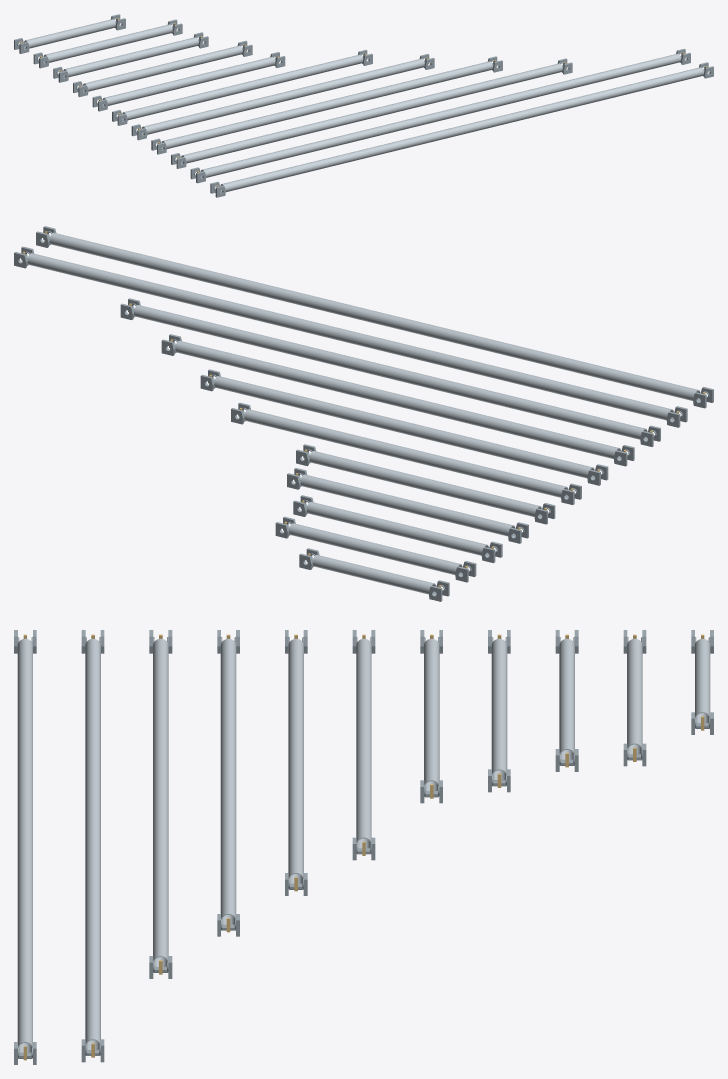
File: Wellmade-Ringlock-All-Ledgers.glb
3 renders of one model, top to bottom at view 1: azimuth 30°, elevation 25°; view 2: azimuth 150°, elevation 25°; view 3: azimuth 270°, elevation 25°, orthographic. The views are drawn at different scales.
Visible parts, largest first — view 1: Ledger tube Ø48.3 x 3.010, Ledger tube Ø48.3 x 3.009, Ledger tube Ø48.3 x 3.008, Ledger tube Ø48.3 x 3.007, Ledger tube Ø48.3 x 3.006, Ledger tube Ø48.3 x 3.005, Ledger tube Ø48.3 x 3.004, Ledger tube Ø48.3 x 3.003, Ledger tube Ø48.3 x 3.002, Ledger tube Ø48.3 x 3.001, Ledger tube Ø48.3 x 3.0; view 2: Ledger tube Ø48.3 x 3.010, Ledger tube Ø48.3 x 3.009, Ledger tube Ø48.3 x 3.008, Ledger tube Ø48.3 x 3.007, Ledger tube Ø48.3 x 3.006, Ledger tube Ø48.3 x 3.005, Ledger tube Ø48.3 x 3.004, Ledger tube Ø48.3 x 3.003, Ledger tube Ø48.3 x 3.002, Ledger tube Ø48.3 x 3.001, Ledger tube Ø48.3 x 3.0; view 3: Ledger tube Ø48.3 x 3.010, Ledger tube Ø48.3 x 3.009, Ledger tube Ø48.3 x 3.008, Ledger tube Ø48.3 x 3.007, Ledger tube Ø48.3 x 3.006, Ledger tube Ø48.3 x 3.005, Ledger tube Ø48.3 x 3.004, Ledger tube Ø48.3 x 3.003, Ledger tube Ø48.3 x 3.002, Ledger tube Ø48.3 x 3.001, Ledger tube Ø48.3 x 3.0.
Boxes of the visible parts, x1=… form: Ledger tube Ø48.3 x 3.010: x1=220, y1=67, x2=703, y2=192; Ledger tube Ø48.3 x 3.009: x1=200, y1=53, x2=680, y2=177; Ledger tube Ø48.3 x 3.008: x1=181, y1=63, x2=562, y2=163; Ledger tube Ø48.3 x 3.007: x1=161, y1=61, x2=492, y2=148; Ledger tube Ø48.3 x 3.006: x1=142, y1=58, x2=424, y2=134; Ledger tube Ø48.3 x 3.005: x1=122, y1=54, x2=362, y2=120; Ledger tube Ø48.3 x 3.004: x1=102, y1=57, x2=275, y2=105; Ledger tube Ø48.3 x 3.003: x1=83, y1=45, x2=242, y2=91; Ledger tube Ø48.3 x 3.002: x1=63, y1=37, x2=198, y2=77; Ledger tube Ø48.3 x 3.001: x1=43, y1=24, x2=172, y2=62; Ledger tube Ø48.3 x 3.0: x1=24, y1=19, x2=115, y2=48; Ledger tube Ø48.3 x 3.010: x1=49, y1=232, x2=700, y2=400; Ledger tube Ø48.3 x 3.009: x1=27, y1=253, x2=673, y2=420; Ledger tube Ø48.3 x 3.008: x1=134, y1=305, x2=647, y2=439; Ledger tube Ø48.3 x 3.007: x1=175, y1=340, x2=620, y2=458; Ledger tube Ø48.3 x 3.006: x1=214, y1=376, x2=594, y2=478; Ledger tube Ø48.3 x 3.005: x1=244, y1=409, x2=568, y2=497; Ledger tube Ø48.3 x 3.004: x1=309, y1=451, x2=541, y2=516; Ledger tube Ø48.3 x 3.003: x1=300, y1=474, x2=515, y2=536; Ledger tube Ø48.3 x 3.002: x1=306, y1=501, x2=488, y2=555; Ledger tube Ø48.3 x 3.001: x1=289, y1=523, x2=462, y2=574; Ledger tube Ø48.3 x 3.0: x1=312, y1=555, x2=436, y2=594; Ledger tube Ø48.3 x 3.010: x1=17, y1=638, x2=32, y2=1052; Ledger tube Ø48.3 x 3.009: x1=85, y1=638, x2=100, y2=1049; Ledger tube Ø48.3 x 3.008: x1=153, y1=638, x2=168, y2=966; Ledger tube Ø48.3 x 3.007: x1=220, y1=638, x2=236, y2=924; Ledger tube Ø48.3 x 3.006: x1=288, y1=638, x2=303, y2=883; Ledger tube Ø48.3 x 3.005: x1=356, y1=638, x2=371, y2=848; Ledger tube Ø48.3 x 3.004: x1=424, y1=638, x2=439, y2=790; Ledger tube Ø48.3 x 3.003: x1=491, y1=638, x2=507, y2=779; Ledger tube Ø48.3 x 3.002: x1=559, y1=638, x2=574, y2=759; Ledger tube Ø48.3 x 3.001: x1=627, y1=638, x2=642, y2=754; Ledger tube Ø48.3 x 3.0: x1=695, y1=638, x2=710, y2=722.
Bounding box in the file's own units: 3070 × 56 × 2170.
